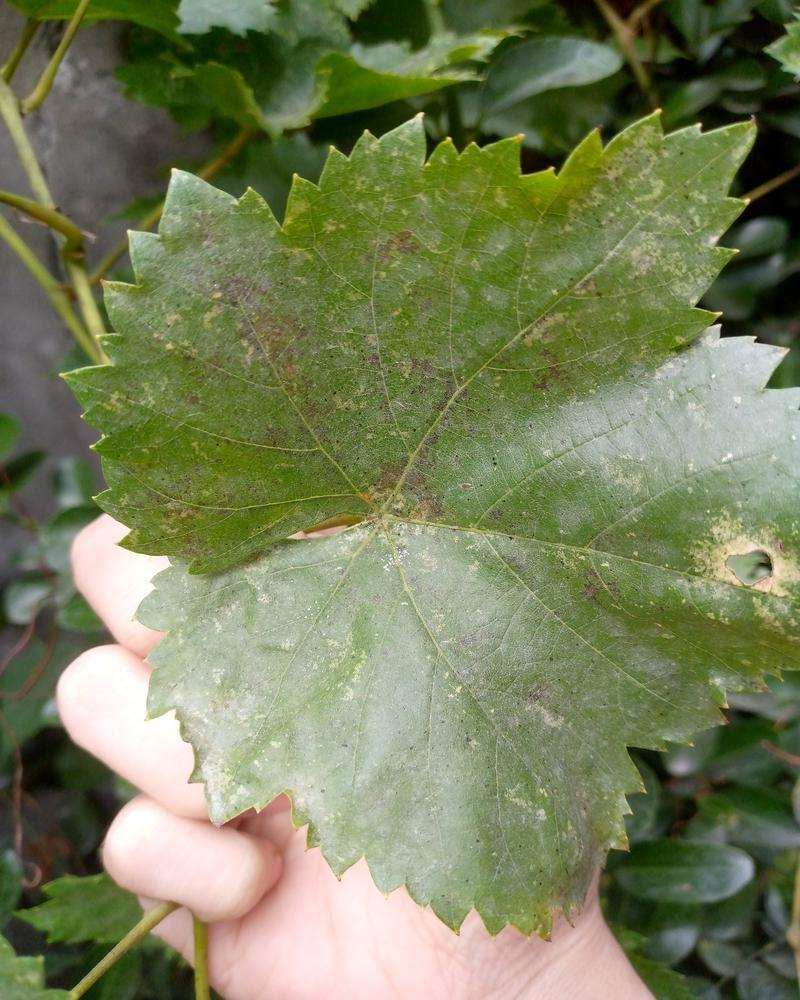Powdery-Mildew: (516, 132, 726, 409), (152, 248, 319, 385), (148, 658, 263, 815), (362, 415, 457, 564), (693, 511, 799, 636), (109, 455, 226, 553), (367, 200, 430, 263), (103, 359, 166, 422), (319, 634, 382, 697), (517, 768, 580, 831)
